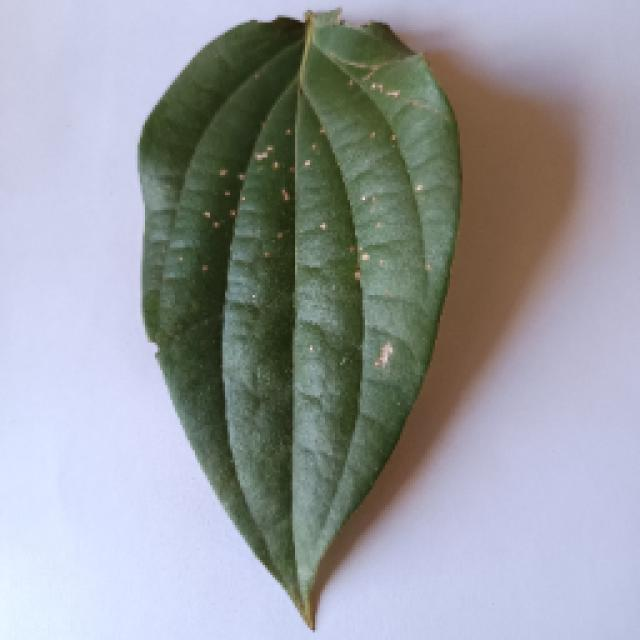pollu-disease: (133, 10, 455, 620)
